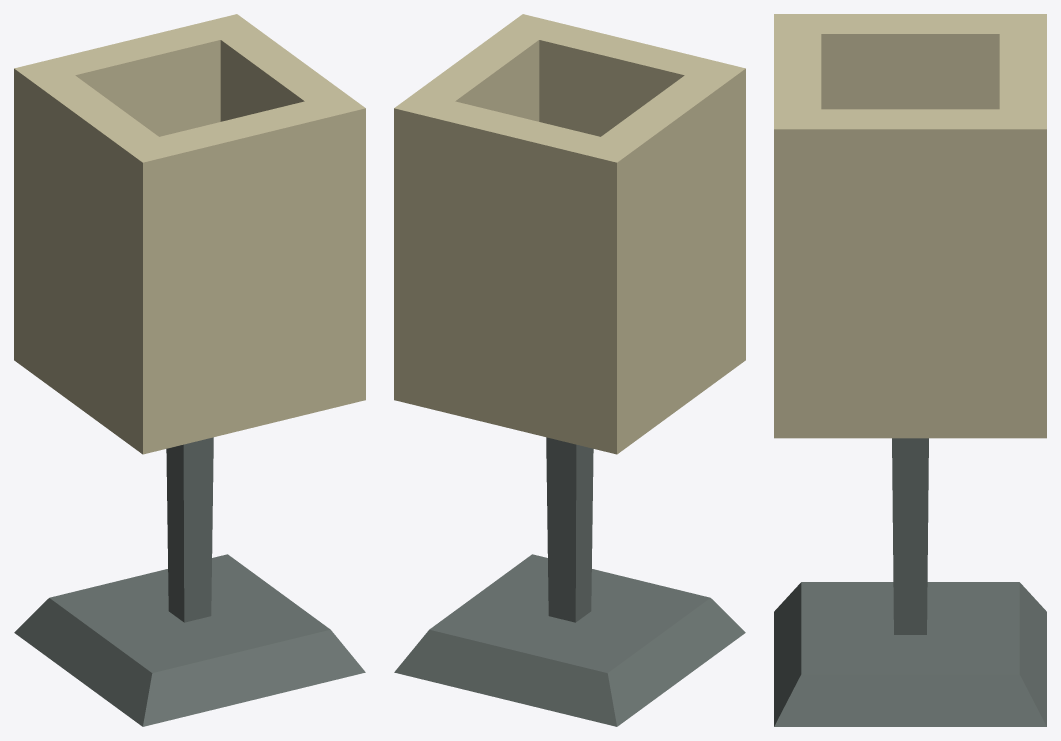
Rendered from lampSquareTable.glb.
3 renders of one model, left to right at view 1: azimuth 30°, elevation 25°; view 2: azimuth 150°, elevation 25°; view 3: azimuth 270°, elevation 25°, orthographic. The views are drawn at different scales.
Parts seen in each view (by area): view 1: lampSquareTable(Clone); view 2: lampSquareTable(Clone); view 3: lampSquareTable(Clone).
Part boxes in pixels (<box>): lampSquareTable(Clone): <box>14,14,365,726</box>; lampSquareTable(Clone): <box>394,14,745,726</box>; lampSquareTable(Clone): <box>774,14,1046,726</box>.
Bounding box in the file's own units: 0.12 × 0.29 × 0.12.
